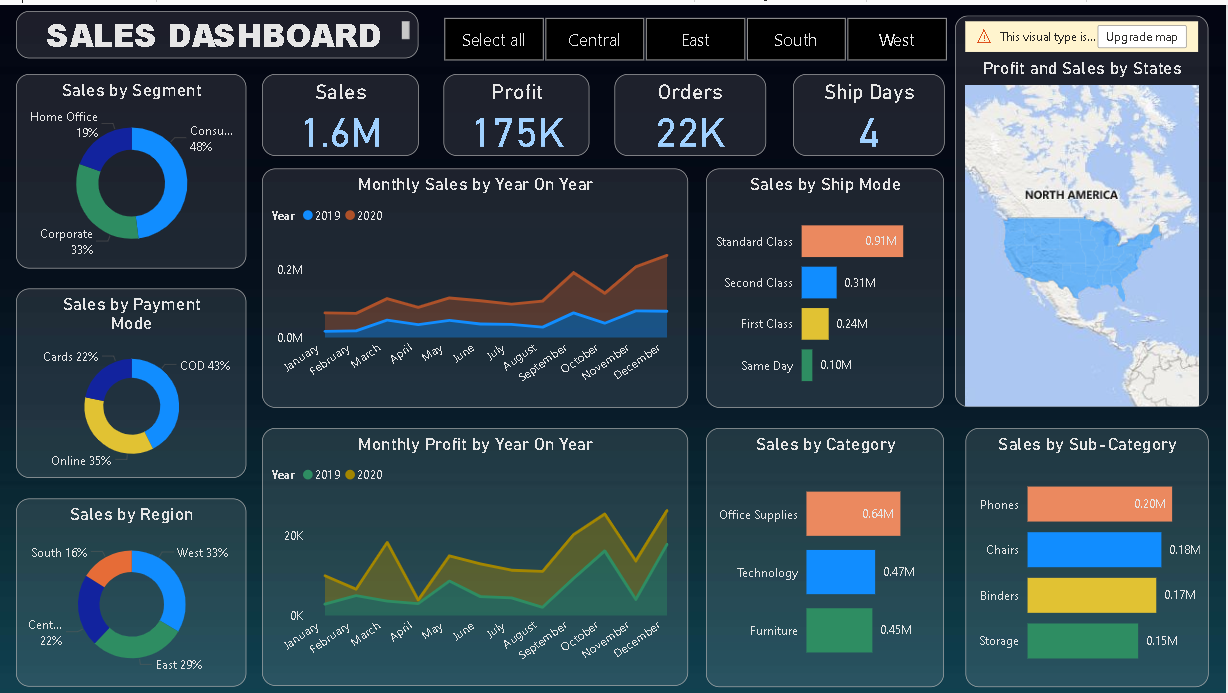

The page's visual inventory and layout, read from the dashboard file:
{"tool":"powerbi","page":{"name":"Page 1","canvas":[1280,720],"ordinal":0},"visuals":[{"type":"clusteredBarChart","title":"Sales by Category","fields":{"Category":["SuperStore_Sales_Dataset.Category"],"Y":["Sum(SuperStore_Sales_Dataset.Sales)"]},"box":[737.6,441.5,248.2,270.1],"z":0},{"type":"clusteredBarChart","title":"Sales by Sub-Category","fields":{"Category":["SuperStore_Sales_Dataset.Sub-Category"],"Y":["Sum(SuperStore_Sales_Dataset.Sales)"]},"box":[1007.7,440.1,253.6,270.1],"z":1000},{"type":"clusteredBarChart","title":"Sales by Ship Mode","fields":{"Category":["SuperStore_Sales_Dataset.Ship Mode"],"Y":["Sum(SuperStore_Sales_Dataset.Sales)"]},"box":[737.6,170,248.2,249.5],"z":2000},{"type":"stackedAreaChart","title":"Monthly Sales by Year On Year","fields":{"Category":["SuperStore_Sales_Dataset.Order Date.Variation.Date Hierarchy.Month"],"Y":["Sum(SuperStore_Sales_Dataset.Sales)"],"Series":["SuperStore_Sales_Dataset.Order Date.Variation.Date Hierarchy.Year"]},"box":[275.6,170,444.2,249.5],"z":3000},{"type":"stackedAreaChart","title":"Monthly Profit by Year On Year","fields":{"Category":["SuperStore_Sales_Dataset.Order Date.Variation.Date Hierarchy.Month"],"Series":["SuperStore_Sales_Dataset.Order Date.Variation.Date Hierarchy.Year"],"Y":["Sum(SuperStore_Sales_Dataset.Profit)"]},"box":[275.6,441.5,444.2,268.7],"z":4000},{"type":"filledMap","title":"Profit and Sales by States","fields":{"Category":["SuperStore_Sales_Dataset.State"]},"box":[997.2,10.9,264.1,407.9],"z":5000},{"type":"donutChart","title":"Sales by Segment","fields":{"Category":["SuperStore_Sales_Dataset.Segment"],"Y":["Sum(SuperStore_Sales_Dataset.Sales)"]},"box":[19.2,71.3,239.9,202.9],"z":6000},{"type":"donutChart","title":" Sales by Payment Mode","fields":{"Category":["SuperStore_Sales_Dataset.Payment Mode"],"Y":["Sum(SuperStore_Sales_Dataset.Sales)"]},"box":[19.2,294.8,239.9,197.4],"z":7000},{"type":"donutChart","title":"Sales by Region","fields":{"Y":["Sum(SuperStore_Sales_Dataset.Sales)"],"Category":["SuperStore_Sales_Dataset.Region"]},"box":[19.2,514.1,239.9,196.1],"z":8000},{"type":"slicer","fields":{"Values":["SuperStore_Sales_Dataset.Region"]},"box":[438.7,6.9,573,58],"z":9000},{"type":"card","title":"Sales","fields":{"Values":["Sum(SuperStore_Sales_Dataset.Sales)"]},"box":[275.6,71.3,163.2,85],"z":10000},{"type":"card","title":"Profit","fields":{"Values":["Sum(SuperStore_Sales_Dataset.Profit)"]},"box":[464.8,71.3,152.2,85],"z":11000},{"type":"card","title":"Orders","fields":{"Values":["Sum(SuperStore_Sales_Dataset.Quantity)"]},"box":[641.6,71.3,157.7,85],"z":12000},{"type":"card","title":"Ship Days","fields":{"Values":["Avg(SuperStore_Sales_Dataset.AvgDelivery)"]},"box":[828.1,71.3,157.7,85],"z":13000},{"type":"textbox","box":[19.2,6.9,419.5,49.4],"z":14000}]}

Visuals, with their boxes in screenshot pixels (x1, y1, x2, y2), scaled from the page's 1280x720 canvas onto the 1228x693 screenshot:
"Sales by Category" clusteredBarChart: [708, 425, 946, 685]
"Sales by Sub-Category" clusteredBarChart: [967, 424, 1210, 684]
"Sales by Ship Mode" clusteredBarChart: [708, 164, 946, 404]
"Monthly Sales by Year On Year" stackedAreaChart: [264, 164, 691, 404]
"Monthly Profit by Year On Year" stackedAreaChart: [264, 425, 691, 684]
"Profit and Sales by States" filledMap: [957, 10, 1210, 403]
"Sales by Segment" donutChart: [18, 69, 249, 264]
" Sales by Payment Mode" donutChart: [18, 284, 249, 474]
"Sales by Region" donutChart: [18, 495, 249, 684]
slicer - SuperStore_Sales_Dataset.Region: [421, 7, 971, 62]
"Sales" card: [264, 69, 421, 150]
"Profit" card: [446, 69, 592, 150]
"Orders" card: [616, 69, 767, 150]
"Ship Days" card: [794, 69, 946, 150]
textbox: [18, 7, 421, 54]
